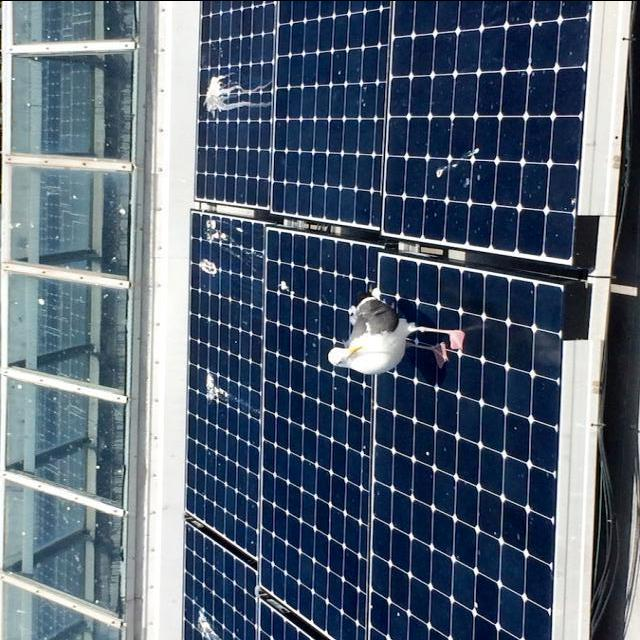soiled: (186, 1, 591, 267), (184, 209, 369, 640)
